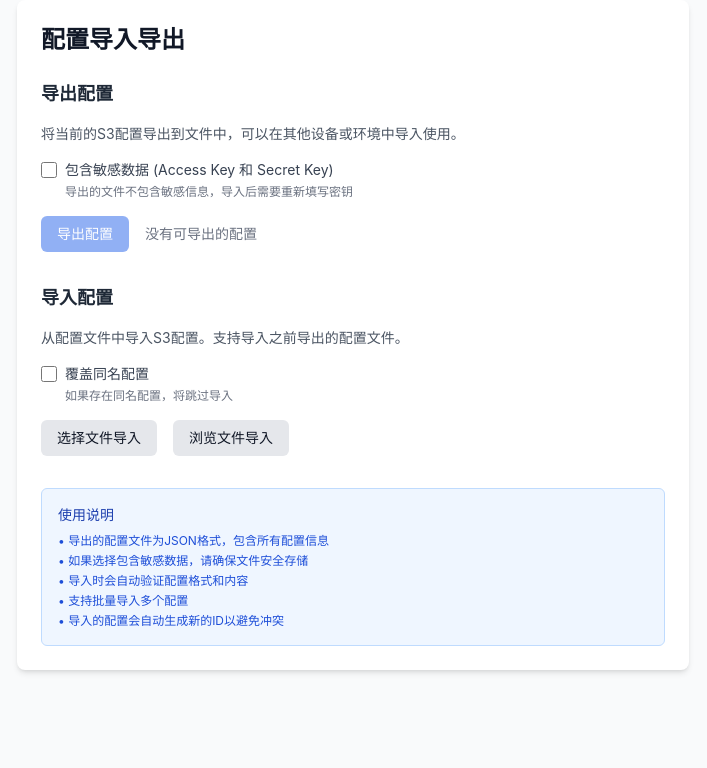
Test: ConfigImportExport › Import Functionality › should handle Tauri file dialog import
The image size is (707, 768).
Click the button "浏览文件导入": (231, 438) [173,420,289,456]
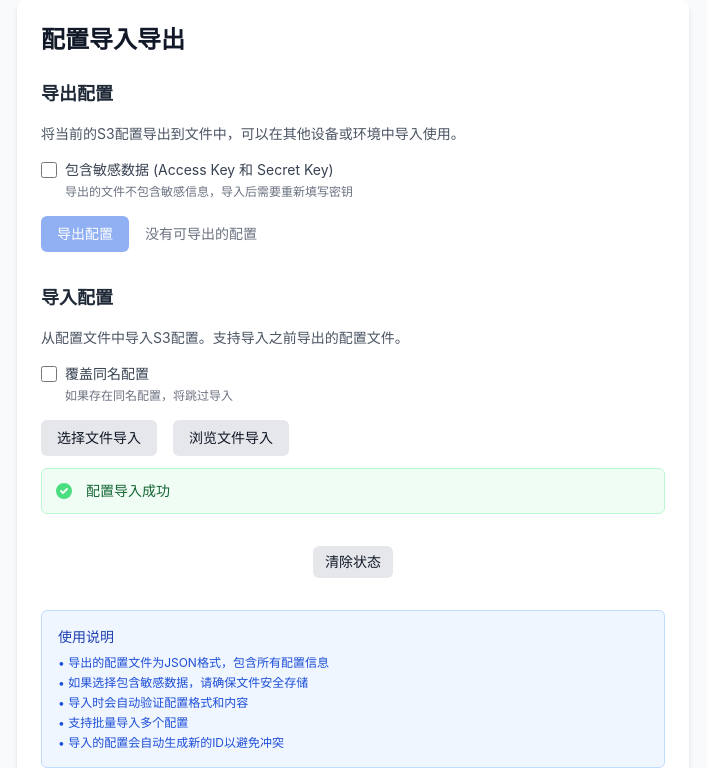
Check: the text "配置导入成功" is shown, box [86,481,170,501]
